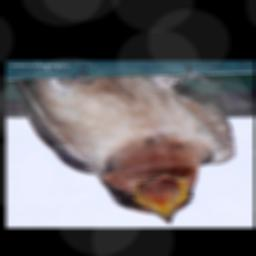Swallow: (14, 65, 237, 224)
